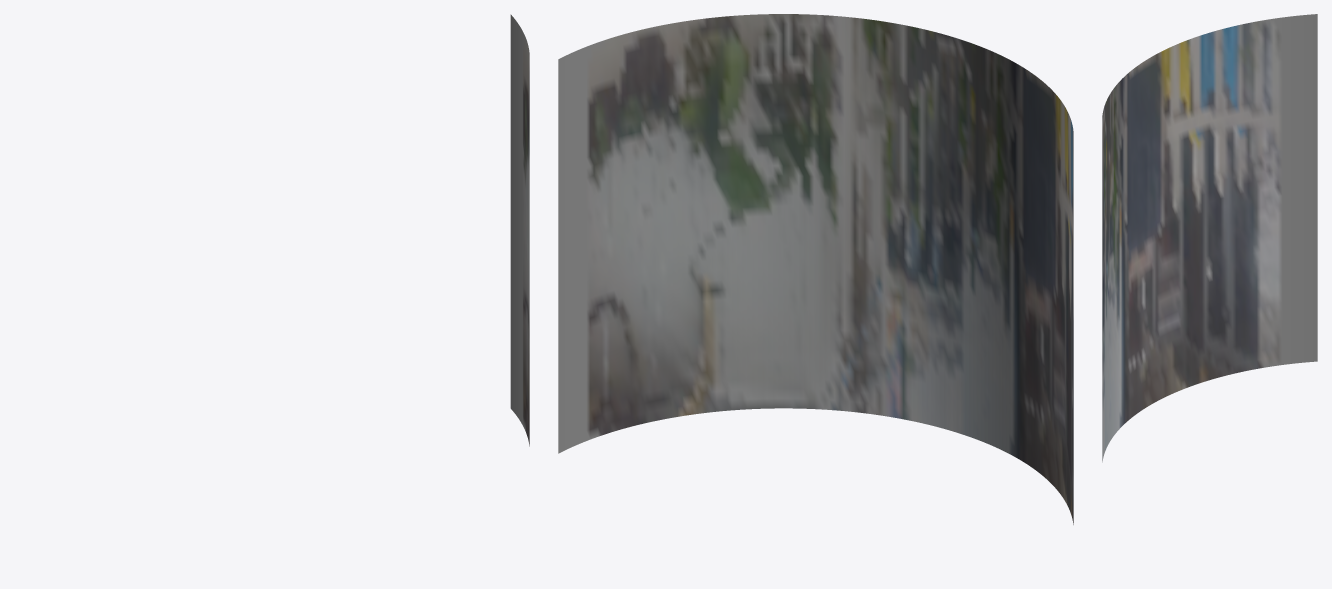
The picture shows the model from 3 angles, left to right: view 1: azimuth 30°, elevation 25°; view 2: azimuth 150°, elevation 25°; view 3: azimuth 270°, elevation 25°; orthographic projection. The views are drawn at different scales.
Visible parts, largest first — view 1: SpatialPointCloud; view 2: SpatialPointCloud; view 3: SpatialPointCloud.
Part boxes in pixels (box(x1,y1,x2,y2)): SpatialPointCloud: box(510, 14, 529, 446); SpatialPointCloud: box(558, 14, 1073, 524); SpatialPointCloud: box(1102, 14, 1317, 462).
Size of the model in its own units: 6.91 by 5.25 by 2.95.
